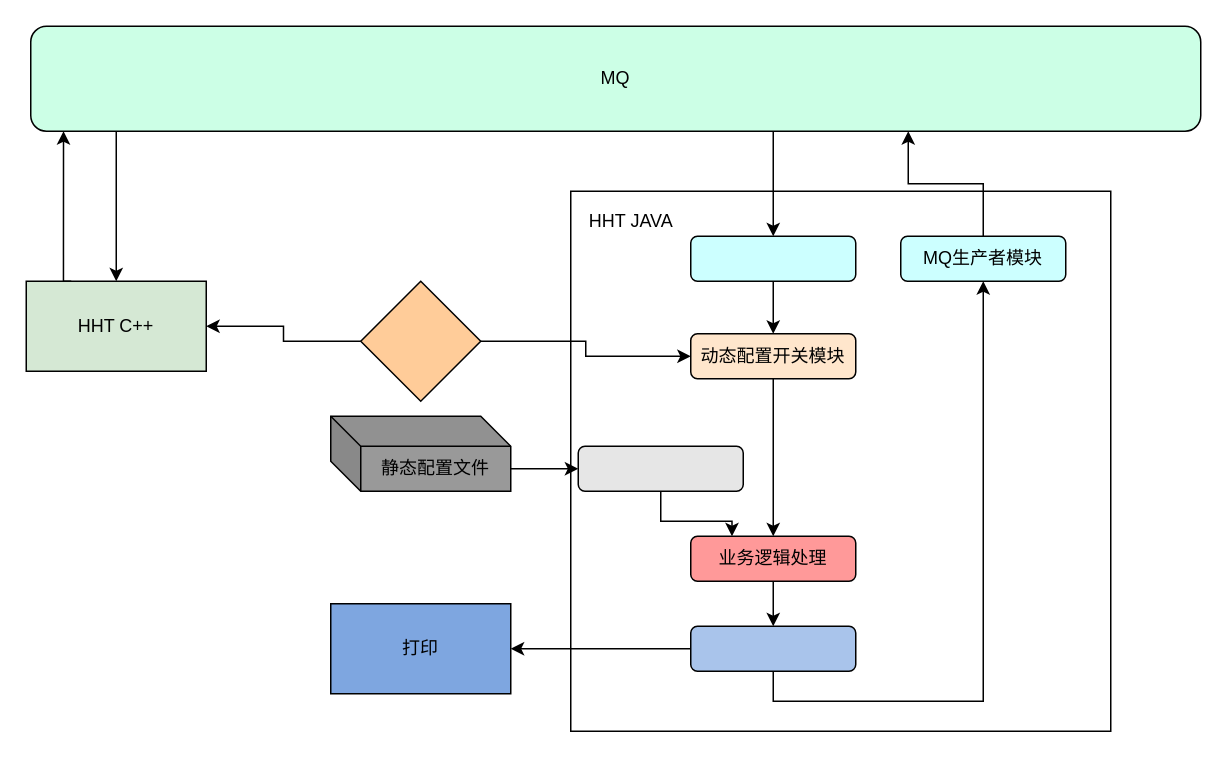
This 1227x758 diagram has some shape labels left out. The shapes that lost their labels are listed below. From the top down, each one's box as (x1, y1, x2, y2) in pixels, then its label:
(689, 235, 856, 281): MQ消费者模块
(359, 280, 481, 401): 配置中心
(577, 445, 743, 491): 文件解析器
(689, 625, 856, 671): 打印模块
